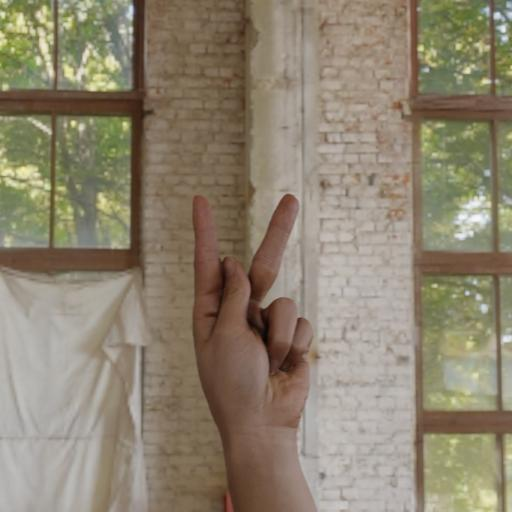K: (149, 158, 428, 512)
